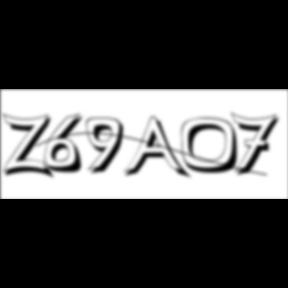6: (44, 112, 90, 176)
7: (231, 111, 286, 179)
9: (86, 117, 132, 177)
A: (124, 116, 192, 182)
O: (180, 117, 246, 176)
Z: (3, 112, 58, 181)
